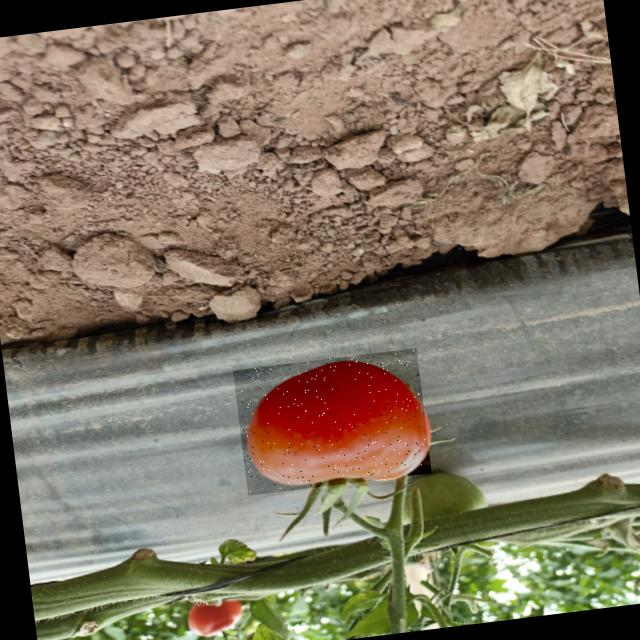Ripe Tomato: (233, 348, 432, 496)
